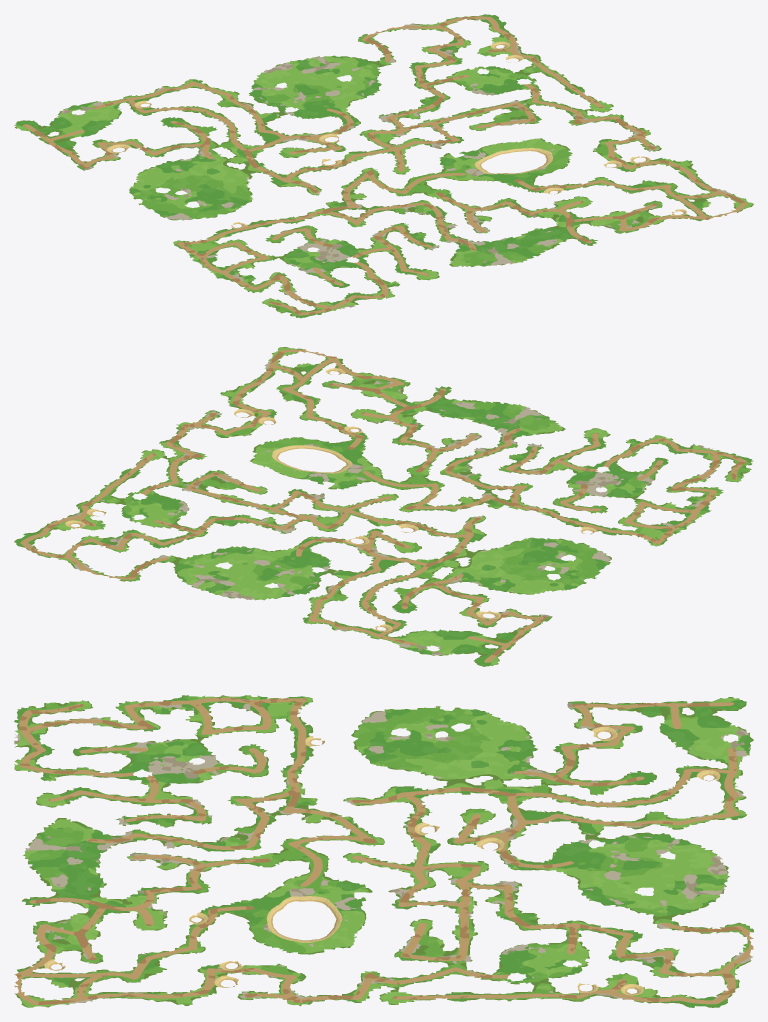
File: Dungeon-1C-Ground.fbx
3 renders of one model, top to bottom at view 1: azimuth 30°, elevation 25°; view 2: azimuth 150°, elevation 25°; view 3: azimuth 270°, elevation 25°, orthographic. The views are drawn at different scales.
Parts seen in each view (by area): view 1: Dungeon-1C-Ground-c46, Dungeon-1C-Ground-c14, Dungeon-1C-Ground-c15, Dungeon-1C-Ground-c40, Dungeon-1C-Ground-c11, Dungeon-1C-Ground-c36, Dungeon-1C-Ground-c02, Dungeon-1C-Ground-c47, Dungeon-1C-Ground-c17, Dungeon-1C-Ground-c25, Dungeon-1C-Ground-c07, Dungeon-1C-Ground-c04 (+50 smaller); view 2: Dungeon-1C-Ground-c46, Dungeon-1C-Ground-c14, Dungeon-1C-Ground-c15, Dungeon-1C-Ground-c40, Dungeon-1C-Ground-c11, Dungeon-1C-Ground-c36, Dungeon-1C-Ground-c47, Dungeon-1C-Ground-c02, Dungeon-1C-Ground-c17, Dungeon-1C-Ground-c25, Dungeon-1C-Ground-c07, Dungeon-1C-Ground-c04 (+50 smaller); view 3: Dungeon-1C-Ground-c46, Dungeon-1C-Ground-c14, Dungeon-1C-Ground-c15, Dungeon-1C-Ground-c40, Dungeon-1C-Ground-c11, Dungeon-1C-Ground-c36, Dungeon-1C-Ground-c17, Dungeon-1C-Ground-c47, Dungeon-1C-Ground-c02, Dungeon-1C-Ground-c25, Dungeon-1C-Ground-c07, Dungeon-1C-Ground-c04 (+52 smaller).
Part boxes in pixels (x1,y1,x2,y2): Dungeon-1C-Ground-c46: (277, 74, 366, 113); Dungeon-1C-Ground-c14: (165, 169, 252, 209); Dungeon-1C-Ground-c15: (145, 143, 224, 183); Dungeon-1C-Ground-c40: (486, 228, 565, 263); Dungeon-1C-Ground-c11: (273, 245, 361, 280); Dungeon-1C-Ground-c36: (217, 88, 311, 127); Dungeon-1C-Ground-c02: (180, 238, 270, 273); Dungeon-1C-Ground-c47: (259, 57, 336, 88); Dungeon-1C-Ground-c17: (63, 96, 150, 132); Dungeon-1C-Ground-c25: (191, 131, 286, 168); Dungeon-1C-Ground-c07: (14, 110, 94, 143); Dungeon-1C-Ground-c04: (129, 184, 199, 217); Dungeon-1C-Ground-c46: (219, 547, 315, 585); Dungeon-1C-Ground-c14: (477, 540, 574, 578); Dungeon-1C-Ground-c15: (440, 564, 538, 601); Dungeon-1C-Ground-c40: (435, 399, 525, 428); Dungeon-1C-Ground-c11: (584, 461, 659, 500); Dungeon-1C-Ground-c36: (281, 560, 373, 601); Dungeon-1C-Ground-c47: (196, 571, 280, 600); Dungeon-1C-Ground-c02: (618, 500, 702, 540); Dungeon-1C-Ground-c17: (374, 620, 467, 655); Dungeon-1C-Ground-c25: (383, 548, 476, 590); Dungeon-1C-Ground-c07: (435, 632, 515, 666); Dungeon-1C-Ground-c04: (539, 553, 610, 588); Dungeon-1C-Ground-c46: (570, 851, 665, 891); Dungeon-1C-Ground-c14: (383, 732, 477, 772); Dungeon-1C-Ground-c15: (476, 732, 571, 772); Dungeon-1C-Ground-c40: (23, 851, 103, 891); Dungeon-1C-Ground-c11: (102, 733, 198, 772); Dungeon-1C-Ground-c36: (570, 811, 664, 851); Dungeon-1C-Ground-c17: (664, 732, 753, 773); Dungeon-1C-Ground-c47: (663, 851, 729, 891); Dungeon-1C-Ground-c02: (196, 695, 291, 733); Dungeon-1C-Ground-c25: (476, 772, 571, 812); Dungeon-1C-Ground-c07: (663, 697, 746, 733); Dungeon-1C-Ground-c04: (383, 706, 478, 733).
Bounding box in the file's own units: 87.11 × 0.2156 × 87.11.
